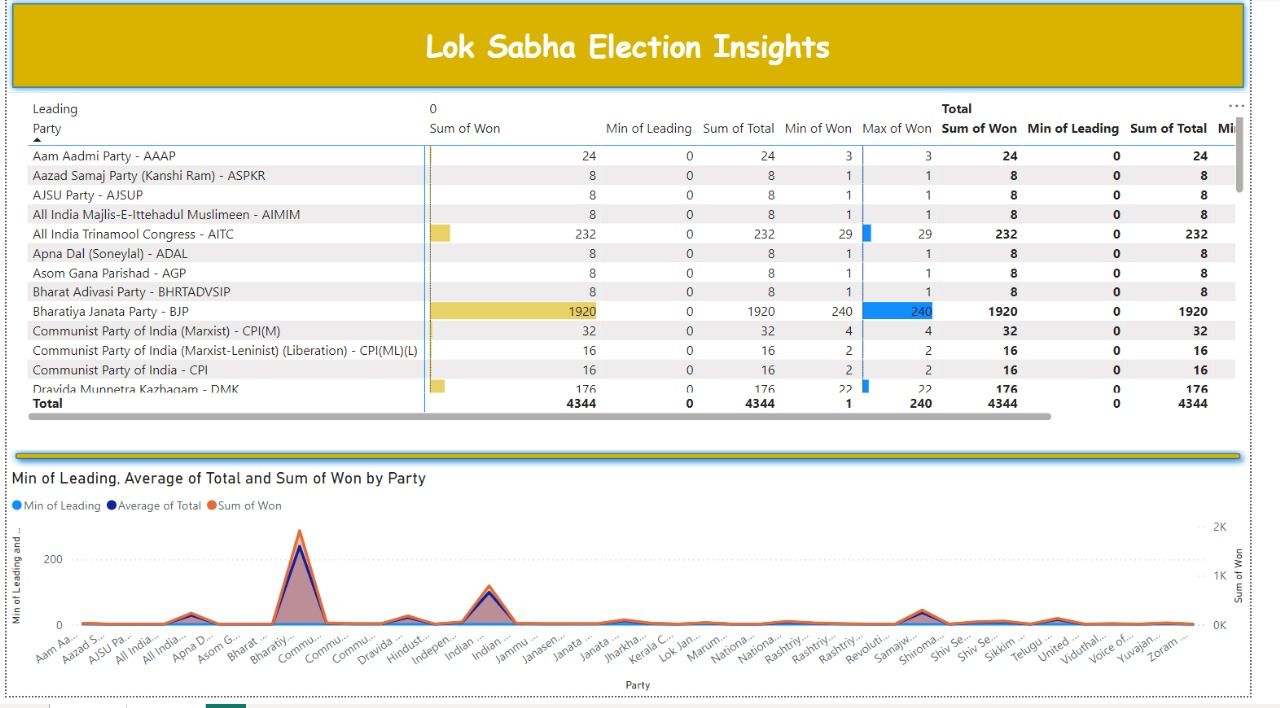

This screenshot's page, from the dashboard's own definition file:
{"tool":"powerbi","page":{"name":"Page 2","canvas":[1280,720],"ordinal":1},"visuals":[{"type":"pivotTable","fields":{"Rows":["table.Party"],"Columns":["table.Leading"],"Values":["Sum(table.Won)","Min(table.Leading)","Sum(table.Total)","Min(table.Won)","Max(table.Won)"]},"box":[17.1,98.6,1262.9,342.9],"z":0},{"type":"shape","box":[0,0,1280.3,98.8],"z":1000},{"type":"shape","box":[0,460,1280,24.3],"z":2000},{"type":"areaChart","fields":{"Category":["table.Party"],"Y":["Min(table.Leading)","Avg(table.Total)"],"Y2":["Sum(table.Won)"]},"box":[0,484.3,1280,235.7],"z":3000}]}

Visuals, with their boxes in screenshot pixels (x1, y1, x2, y2), scaled from the page's 1280x720 canvas onto the 1280x708 screenshot:
pivotTable - table.Party x table.Leading: <box>17,97,1279,434</box>
shape: <box>0,0,1279,97</box>
shape: <box>0,452,1279,476</box>
areaChart - table.Party x Min(table.Leading): <box>0,476,1279,707</box>
